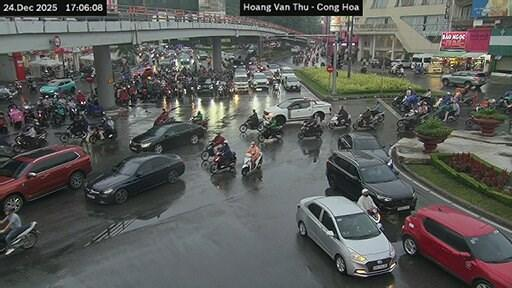motorbike: (12, 221, 37, 247), (397, 109, 426, 131), (12, 135, 47, 152), (240, 152, 262, 175), (211, 152, 236, 172), (58, 125, 86, 142), (89, 126, 115, 143), (298, 121, 322, 139), (352, 113, 377, 130), (256, 126, 281, 140), (7, 106, 24, 126), (496, 90, 511, 112), (240, 117, 262, 131), (329, 113, 351, 127), (199, 140, 214, 160), (51, 104, 64, 125), (367, 208, 380, 229), (34, 108, 48, 126), (85, 103, 103, 116), (188, 117, 207, 129), (22, 103, 34, 121), (153, 115, 173, 125), (34, 125, 47, 138), (67, 106, 79, 120), (391, 94, 405, 106), (0, 85, 12, 99), (371, 109, 383, 121), (217, 81, 227, 94), (464, 115, 476, 125), (28, 79, 37, 91), (0, 116, 6, 133), (15, 81, 22, 93), (272, 82, 278, 95), (15, 133, 22, 142), (0, 241, 5, 252)
